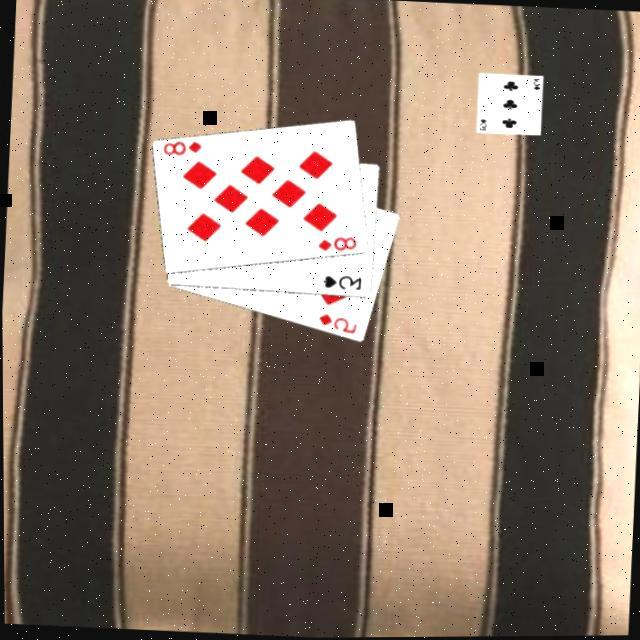3S: (322, 272, 366, 293)
5D: (316, 310, 362, 338)
8D: (316, 232, 361, 255), (162, 137, 208, 159)
